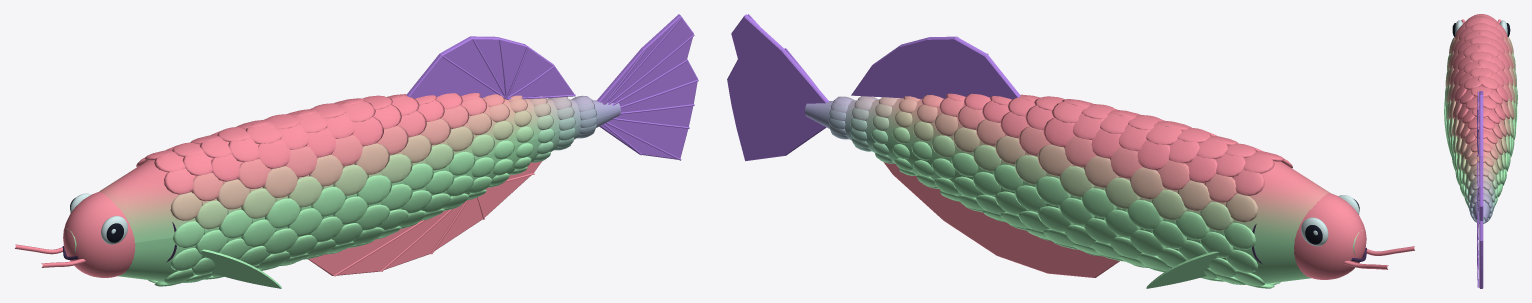
The model's file is arowana-concept.glb.
The picture shows the model from 3 angles, left to right: view 1: azimuth 30°, elevation 25°; view 2: azimuth 150°, elevation 25°; view 3: azimuth 270°, elevation 25°; orthographic projection. The views are drawn at different scales.
Parts seen in each view (by area): view 1: Overlapping scale (×56), Long tapered body, Fan tail, Dorsal fin, Anal fin, Head, Pectoral fin; view 2: Overlapping scale (×56), Long tapered body, Fan tail, Dorsal fin, Anal fin, Head, Pectoral fin; view 3: Overlapping scale (×85), Long tapered body, Fan tail, Dorsal fin, Eye rim (×2), Pectoral fin, Head.
Part boxes in pixels (bbox=[...]): Overlapping scale (×56): bbox=[154, 99, 475, 270]; Long tapered body: bbox=[66, 98, 620, 281]; Fan tail: bbox=[597, 14, 697, 159]; Dorsal fin: bbox=[406, 36, 574, 98]; Anal fin: bbox=[308, 161, 542, 275]; Head: bbox=[63, 191, 135, 277]; Pectoral fin: bbox=[200, 249, 281, 288]; Overlapping scale (×56): bbox=[951, 100, 1274, 272]; Long tapered body: bbox=[804, 98, 1363, 283]; Fan tail: bbox=[727, 14, 828, 161]; Dorsal fin: bbox=[851, 36, 1020, 99]; Anal fin: bbox=[884, 162, 1119, 277]; Head: bbox=[1294, 193, 1366, 279]; Pectoral fin: bbox=[1146, 251, 1220, 288]; Overlapping scale (×85): bbox=[1446, 17, 1515, 170]; Long tapered body: bbox=[1450, 16, 1512, 221]; Fan tail: bbox=[1479, 187, 1483, 288]; Dorsal fin: bbox=[1479, 91, 1483, 187]; Eye rim (×2): bbox=[1455, 20, 1507, 35]; Pectoral fin: bbox=[1444, 99, 1449, 150]; Head: bbox=[1464, 14, 1498, 23].
Bounding box in the file's own units: 8 × 2.41 × 1.08.
